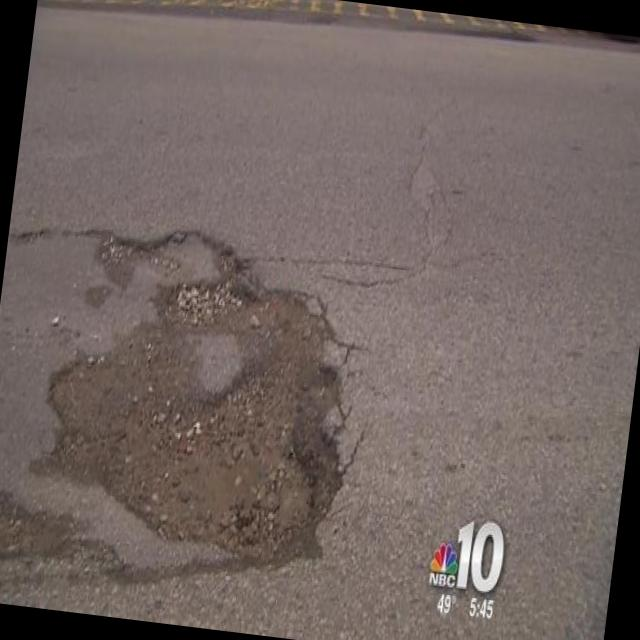Potholes: (29, 212, 397, 610)
